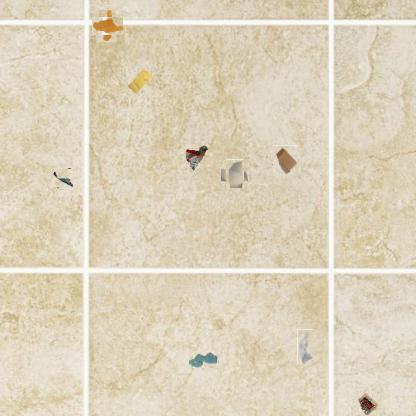dirty: (126, 66, 154, 96), (271, 147, 300, 175), (184, 144, 210, 172), (356, 391, 382, 416), (297, 329, 314, 364), (224, 162, 247, 186), (52, 167, 72, 189)
liquid: (95, 14, 119, 38), (188, 350, 218, 368)
